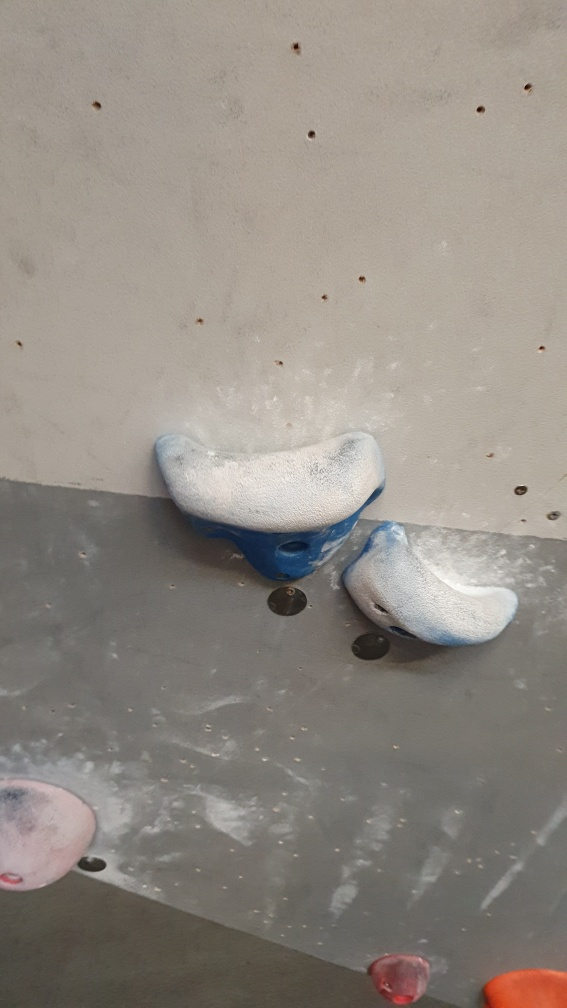Hand Start: (266, 579, 307, 619), (352, 631, 391, 664), (77, 854, 110, 875)
Jug: (155, 421, 387, 585), (341, 515, 522, 652)
Sloper: (1, 773, 102, 896)
